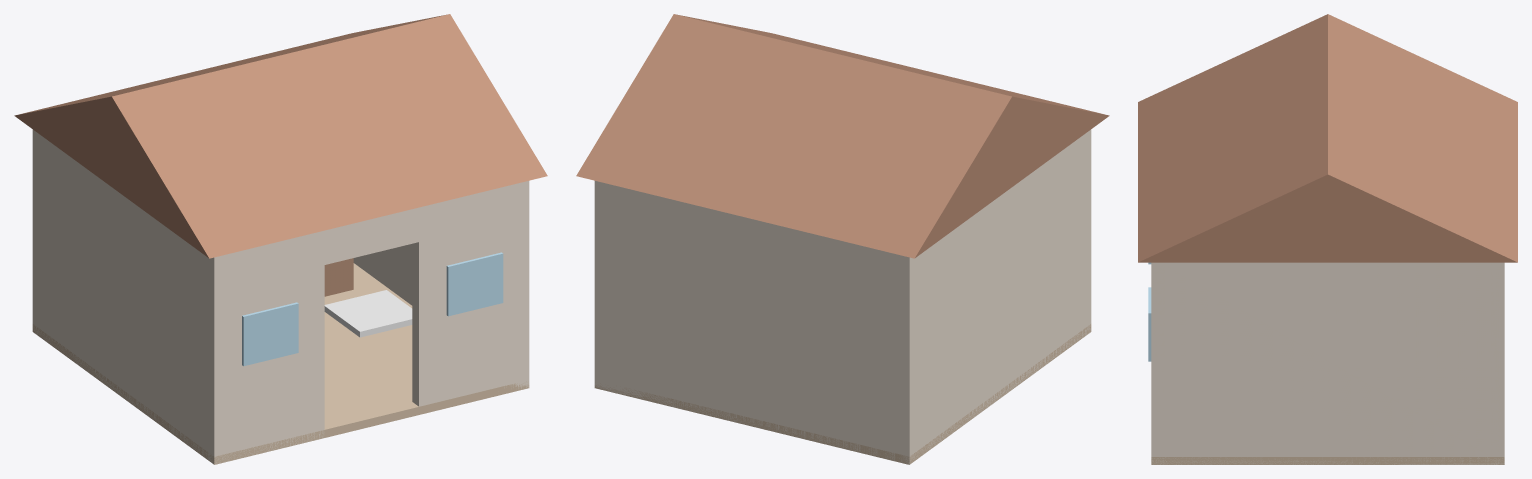
The model's file is cafeteria.glb.
3 views of the same model, side by side, from view 1: azimuth 30°, elevation 25°; view 2: azimuth 150°, elevation 25°; view 3: azimuth 270°, elevation 25° (orthographic). The views are drawn at different scales.
Parts seen in each view (by area): view 1: Techo, Pared_izq, Pared_del_a, Pared_del_b, Suelo, Pared_dintel, Ventana.001, Ventana, MesaCafe.001, Pared_der, Pared_tras, Barra; view 2: Techo, Pared_tras, Pared_izq, Suelo; view 3: Techo, Pared_der, Suelo, Pared_tras, Pared_del_b.
Boxes of the visible parts, x1,y1,x2,y2 form: Techo: (14, 14, 547, 258); Pared_izq: (32, 130, 226, 464); Pared_del_a: (207, 230, 324, 463); Pared_del_b: (412, 181, 529, 406); Suelo: (32, 263, 529, 464); Pared_dintel: (324, 207, 418, 264); Ventana.001: (446, 252, 503, 316); Ventana: (242, 302, 298, 366); MesaCafe.001: (324, 290, 412, 337); Pared_der: (353, 181, 529, 384); Pared_tras: (32, 129, 39, 336); Barra: (324, 258, 353, 296); Techo: (576, 14, 1109, 258); Pared_tras: (594, 181, 916, 464); Pared_izq: (897, 129, 1091, 464); Suelo: (594, 324, 1091, 464); Techo: (1138, 14, 1517, 262); Pared_der: (1151, 262, 1504, 464); Suelo: (1151, 457, 1504, 464); Pared_tras: (1491, 262, 1504, 464); Pared_del_b: (1151, 262, 1164, 464).
Size of the model in its own units: 4.3 by 3.7 by 4.3.
